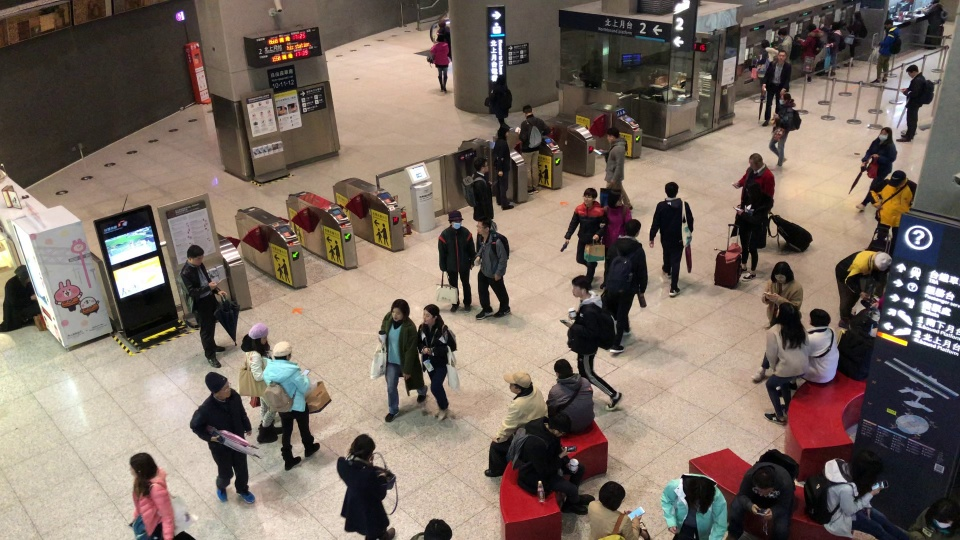person_head: (852, 449, 884, 487), (128, 452, 159, 479), (598, 480, 625, 511), (347, 432, 376, 460), (203, 371, 231, 399), (691, 480, 715, 508), (932, 500, 955, 529), (424, 518, 452, 540), (547, 413, 572, 437), (753, 469, 774, 497), (508, 371, 531, 395), (775, 302, 800, 323), (771, 261, 794, 283), (571, 275, 592, 297), (390, 298, 410, 321), (185, 244, 204, 267), (808, 308, 831, 327), (250, 324, 268, 347), (422, 303, 440, 326), (554, 358, 573, 377), (874, 251, 892, 271), (274, 340, 291, 360), (608, 189, 625, 208), (448, 209, 464, 229), (625, 218, 641, 237), (889, 170, 906, 187), (14, 264, 30, 282), (473, 157, 490, 173), (748, 152, 764, 169), (476, 217, 491, 235), (582, 187, 597, 204), (746, 181, 761, 198), (664, 181, 678, 198), (496, 124, 510, 140), (606, 126, 620, 142), (778, 92, 794, 105), (878, 127, 892, 141), (906, 64, 919, 78), (495, 73, 507, 87), (522, 104, 534, 116), (777, 27, 788, 40), (777, 50, 787, 62), (436, 33, 447, 42), (437, 18, 446, 28), (883, 19, 893, 28), (761, 39, 770, 48), (853, 10, 861, 20), (807, 24, 816, 32), (830, 22, 839, 30)
person_vbox: (803, 449, 908, 540), (188, 370, 257, 506), (507, 413, 595, 515), (562, 275, 624, 410), (262, 340, 321, 472), (483, 370, 548, 478), (724, 449, 799, 540), (335, 433, 396, 540), (750, 261, 804, 381), (601, 218, 648, 354), (377, 298, 428, 421), (177, 244, 227, 367), (128, 452, 195, 540), (775, 308, 840, 397), (763, 302, 809, 424), (647, 181, 694, 298), (238, 323, 283, 444), (416, 303, 457, 422), (659, 473, 727, 540), (835, 250, 892, 329), (730, 181, 774, 282), (564, 186, 606, 288), (867, 170, 917, 255), (437, 209, 477, 313), (732, 153, 775, 249), (474, 217, 511, 321), (586, 480, 650, 540), (545, 358, 595, 432), (854, 126, 897, 211), (593, 126, 633, 210), (460, 157, 494, 255), (600, 190, 632, 292), (516, 104, 551, 194), (895, 64, 935, 142), (0, 264, 41, 332), (768, 92, 802, 170), (761, 50, 792, 127), (904, 497, 959, 540), (869, 18, 902, 83), (492, 124, 516, 210), (772, 27, 802, 94), (797, 23, 827, 84), (752, 39, 779, 103), (819, 22, 845, 77), (843, 10, 868, 67), (428, 34, 450, 93), (489, 73, 513, 125), (922, 0, 947, 26), (437, 18, 452, 61)
